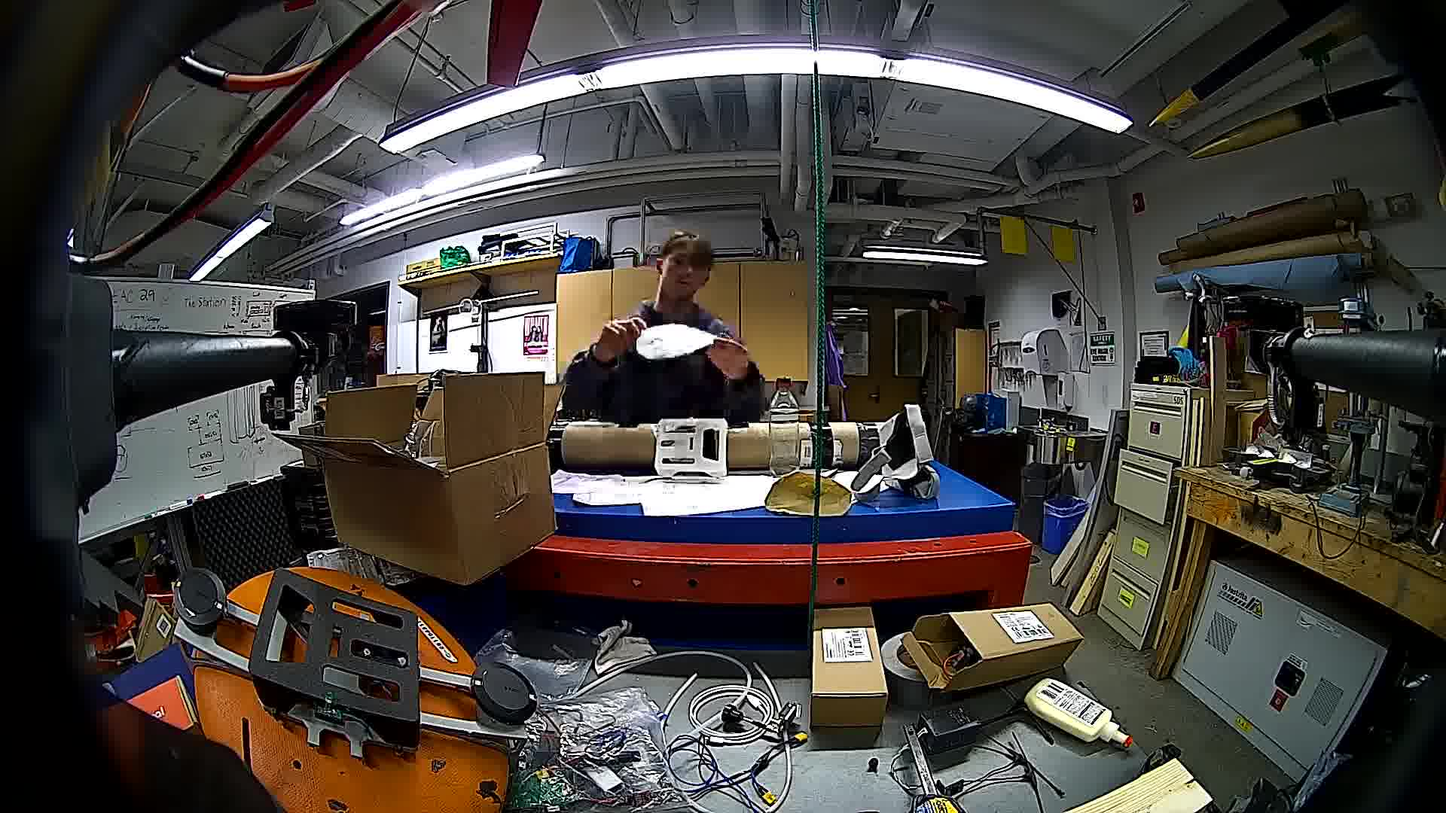Target: (632, 322, 719, 359)
